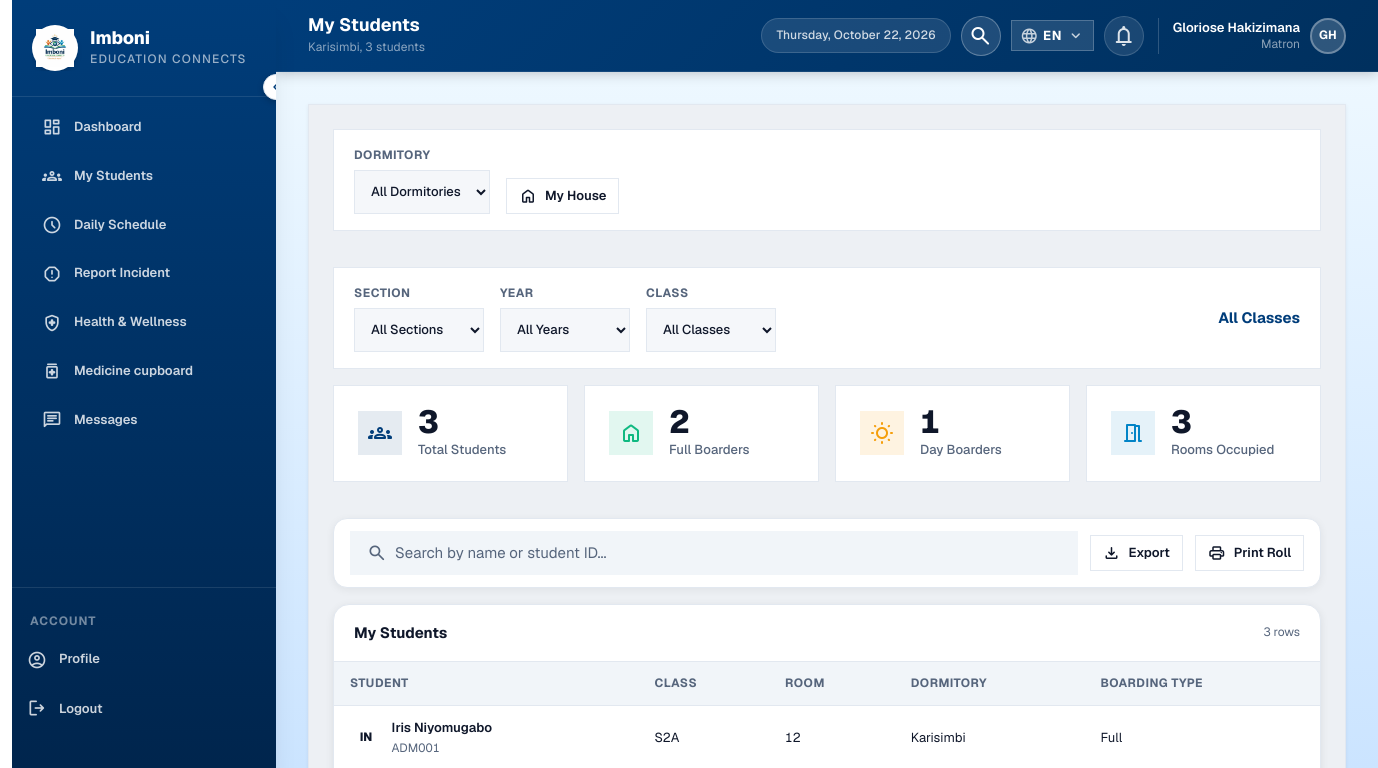
it: MatronStudents › searches by admission number as well as name
The width and height of the screenshot is (1378, 768).
Expected: the button "Iris Niyomugabo" is shown, [392,718,492,739]
Type "ADM002" into the search field with placeholder "Search by name or student ID..." at (728, 553), box [395,532,1061,574]
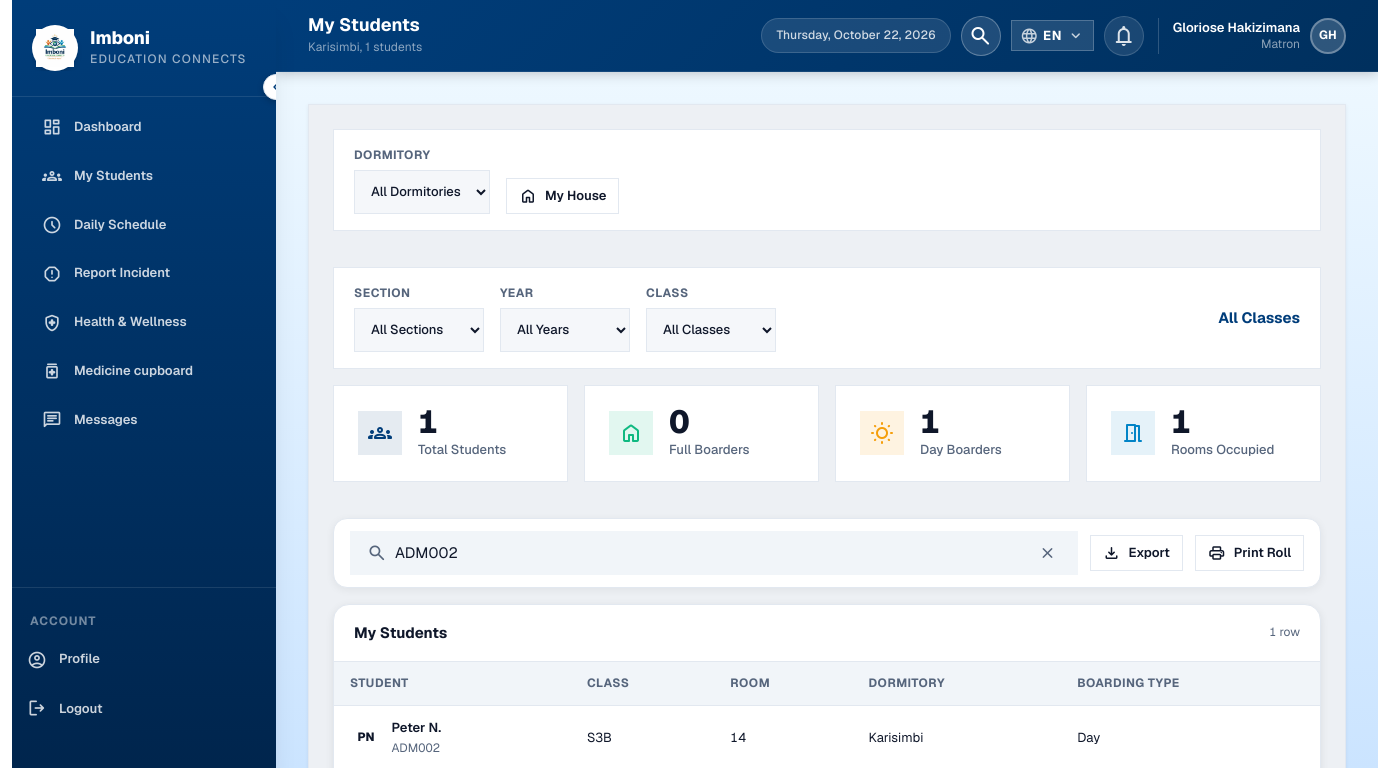
Expected: the button "Peter N." is shown, [392,718,441,739]
Expected: the button "Iris Niyomugabo" is gone
